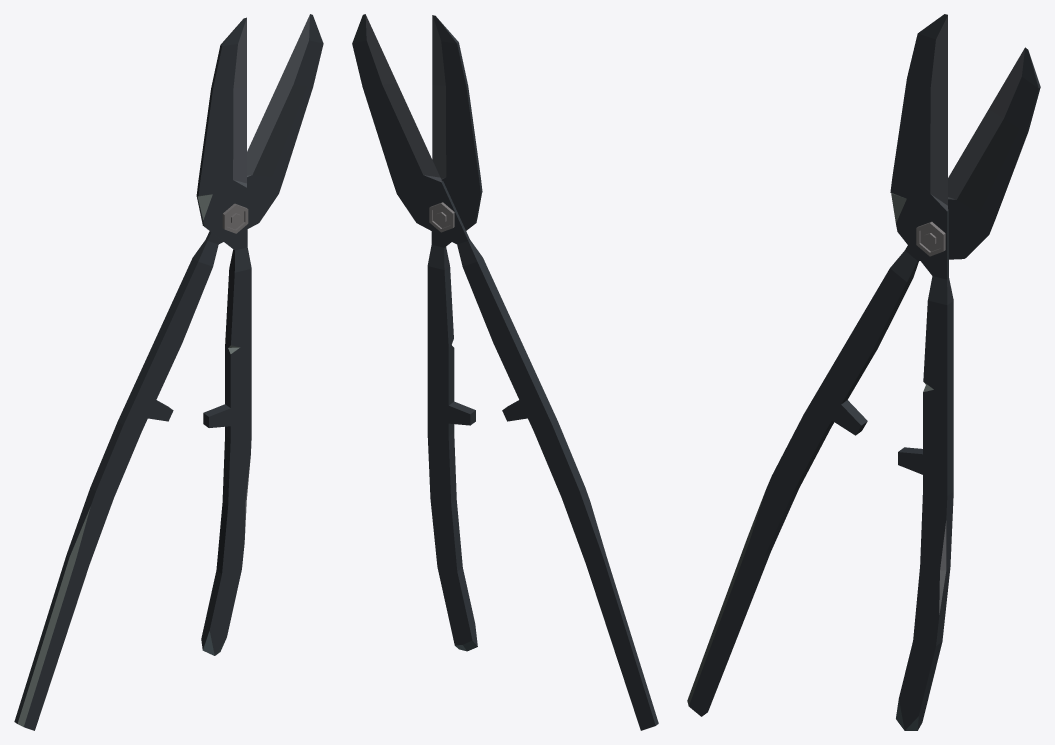
The model's file is SM_Metal_Scissors.gltf.
3 views of the same model, side by side, from view 1: azimuth 30°, elevation 25°; view 2: azimuth 150°, elevation 25°; view 3: azimuth 330°, elevation 25° (orthographic). The views are drawn at different scales.
Parts seen in each view (by area): view 1: SM_Metal_Scissors, HOLDER_FOR_Metal_Scissors; view 2: SM_Metal_Scissors, HOLDER_FOR_Metal_Scissors; view 3: SM_Metal_Scissors, HOLDER_FOR_Metal_Scissors.
Part boxes in pixels (x1,y1,x2,y2): SM_Metal_Scissors: [14, 14, 323, 730]; HOLDER_FOR_Metal_Scissors: [196, 17, 251, 655]; SM_Metal_Scissors: [352, 14, 658, 730]; HOLDER_FOR_Metal_Scissors: [427, 15, 482, 651]; SM_Metal_Scissors: [687, 47, 1040, 716]; HOLDER_FOR_Metal_Scissors: [890, 14, 953, 730].
Bounding box in the file's own units: 0.1473 × 0.3043 × 0.00617.
